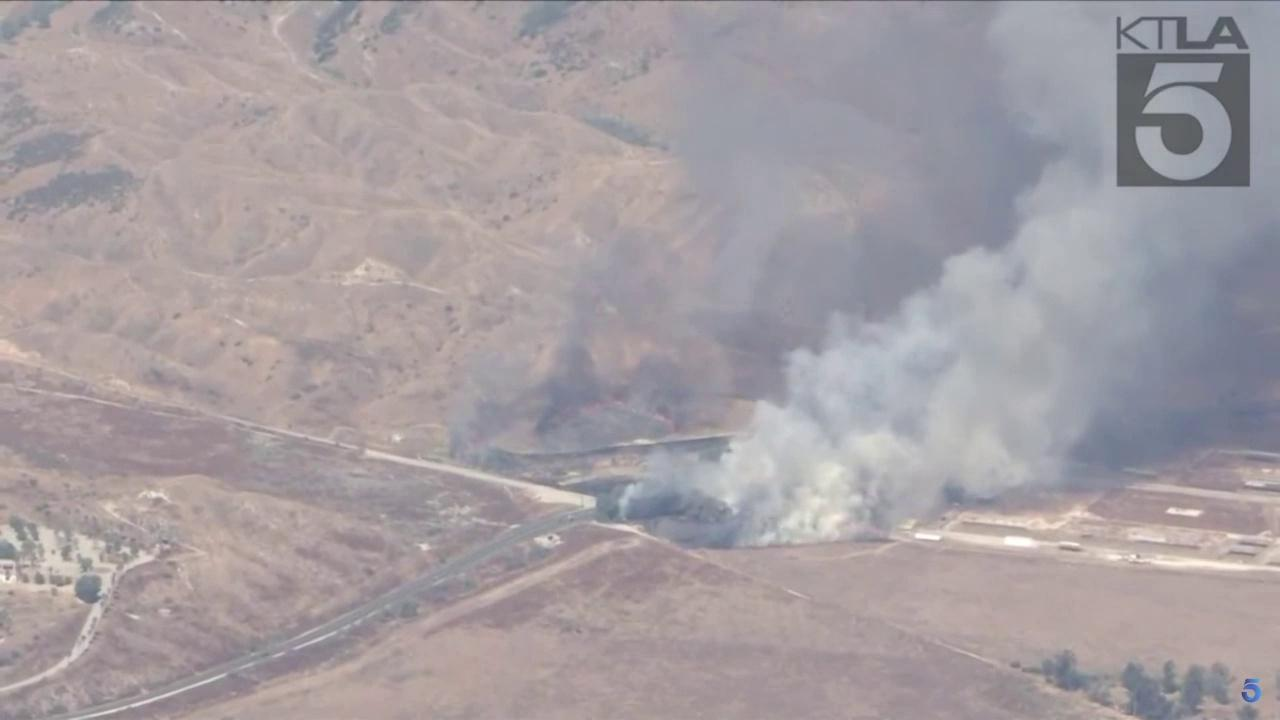smoke: (445, 0, 1280, 547)
